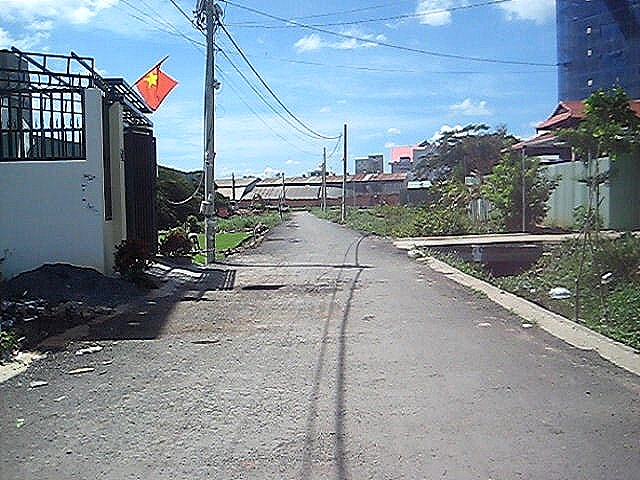hole: (293, 278, 364, 295)
